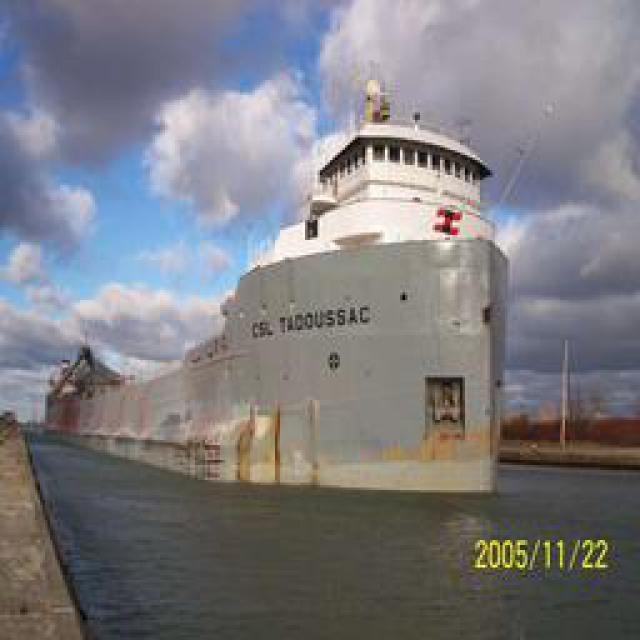Ship: (32, 70, 546, 505)
